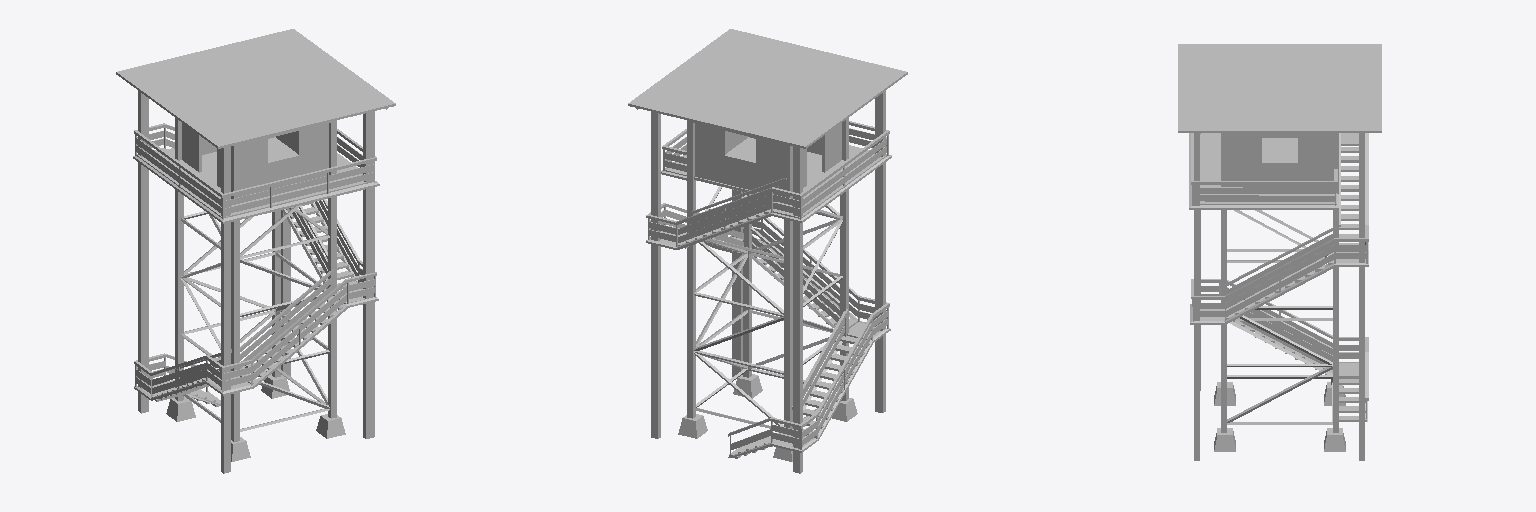
File: vertex.obj
3 views of the same model, side by side, from view 1: azimuth 30°, elevation 25°; view 2: azimuth 150°, elevation 25°; view 3: azimuth 270°, elevation 25° (orthographic).
Visible parts, largest first — view 1: watchtowerHigh_watchtower; view 2: watchtowerHigh_watchtower; view 3: watchtowerHigh_watchtower.
Boxes of the visible parts, <box> form: watchtowerHigh_watchtower: <box>116,29,395,473</box>; watchtowerHigh_watchtower: <box>628,29,907,473</box>; watchtowerHigh_watchtower: <box>1178,44,1381,460</box>.
Bounding box in the file's own units: 4.22 × 7.65 × 4.22.